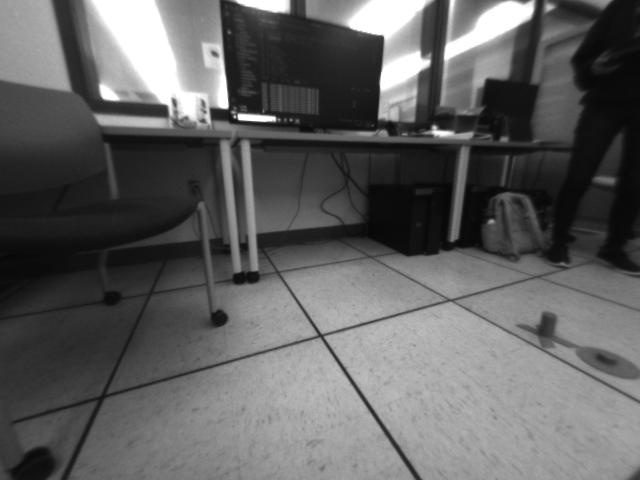X: (514, 309, 581, 350)
